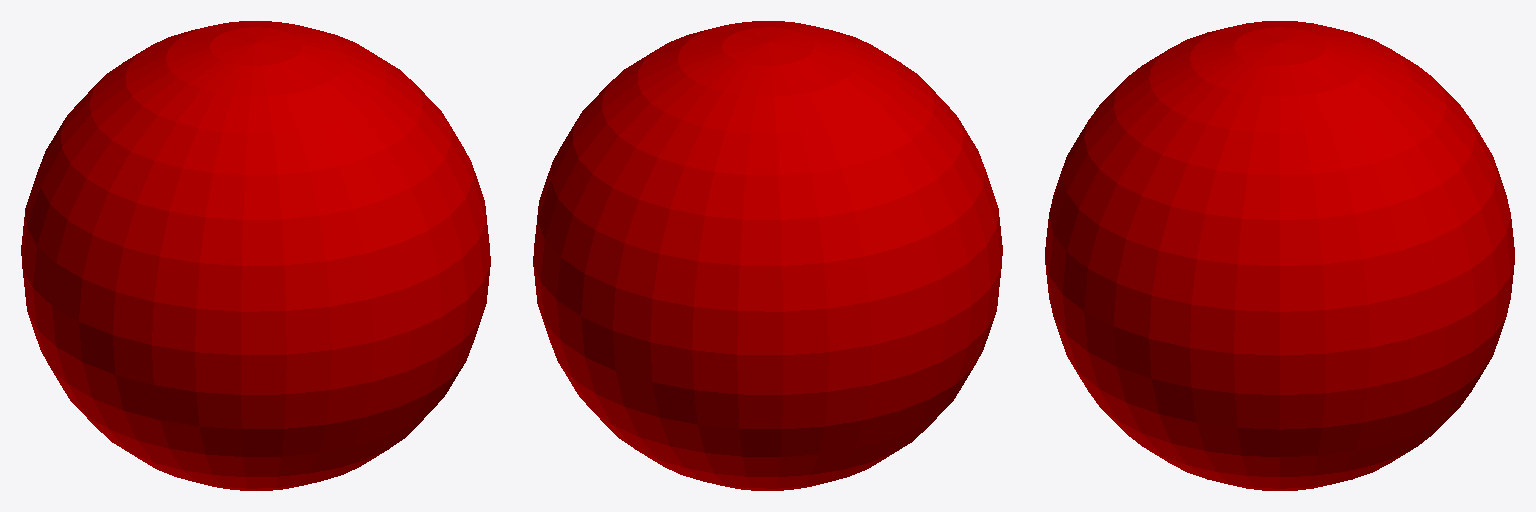
File: Ball.obj
3 renders of one model, left to right at view 1: azimuth 30°, elevation 25°; view 2: azimuth 150°, elevation 25°; view 3: azimuth 270°, elevation 25°, orthographic.
Parts seen in each view (by area): view 1: Sphere; view 2: Sphere; view 3: Sphere.
Part boxes in pixels (left/top/right/bottom): Sphere: left=21, top=21, right=490, bottom=490; Sphere: left=533, top=21, right=1002, bottom=490; Sphere: left=1045, top=21, right=1514, bottom=490.
Size of the model in its own units: 2 by 2 by 2.